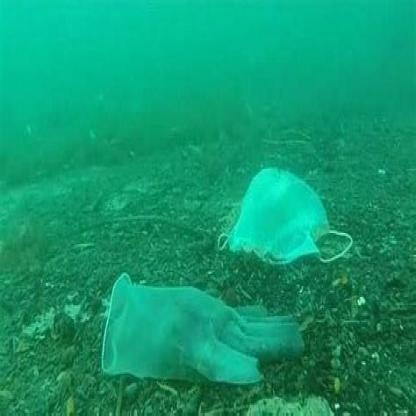Mask: (215, 163, 353, 264)
glove: (101, 269, 307, 385)
